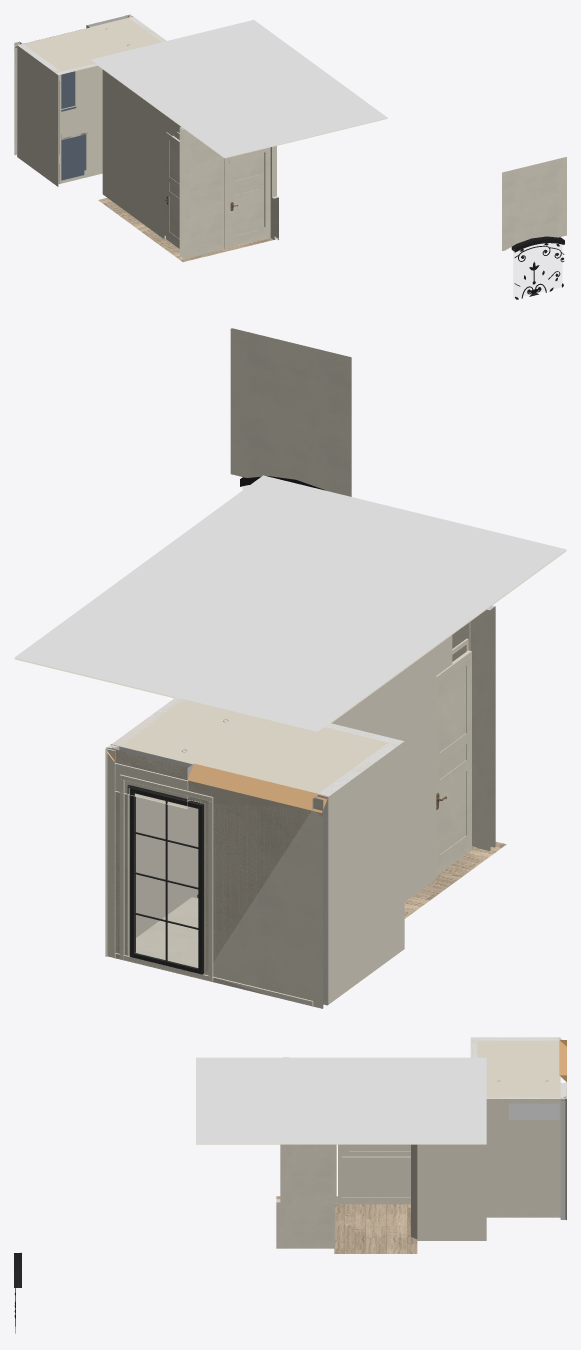
The model's file is laundry-7700b69e0145.glb.
The picture shows the model from 3 angles, top to bottom: view 1: azimuth 30°, elevation 25°; view 2: azimuth 150°, elevation 25°; view 3: azimuth 270°, elevation 25°; orthographic projection. The views are drawn at different scales.
Parts seen in each view (by area): view 1: laundry-look-9d91b47435c6fb33, laundry-look-64efeecf845bccca, laundry-look-eb02897c2e79e2b1, laundry-look-34525a54e63b733b, laundry-4fe5579be934d30a, laundry-9d91b47435c6fb33, laundry-8d8280a2b3ef8b4c, laundry-look-dcc0092055abeaa8, laundry-look-74640f87451038c4, laundry-look-b50904fb6ee0544e, laundry-look-2575515a05775d9e, laundry-3d7dc14daaac73cc (+5 smaller); view 2: laundry-look-9d91b47435c6fb33, laundry-bd62734a7bc60eb7, laundry-look-34525a54e63b733b, laundry-4fe5579be934d30a, laundry-ca9c0b57f88e5741, laundry-9d91b47435c6fb33, laundry-09f90213aa0a4493, laundry-look-64efeecf845bccca, laundry-7f59123d155b94ce, laundry-look-b50904fb6ee0544e, laundry-look-eb02897c2e79e2b1, laundry-9373e00609a5f856 (+6 smaller); view 3: laundry-look-9d91b47435c6fb33, laundry-7f59123d155b94ce, laundry-look-7f59123d155b94ce, laundry-look-746250f96522f643, laundry-9d91b47435c6fb33, laundry-look-2575515a05775d9e, laundry-look-64efeecf845bccca, laundry-6cbc44f63f815149, laundry-9a6873bb27e0e1d8, laundry-look-1a48be0d0ff2f96f.
Boxes of the visible parts, bbox=[...] form: laundry-look-9d91b47435c6fb33: bbox=[91, 20, 387, 158]; laundry-look-64efeecf845bccca: bbox=[102, 69, 177, 238]; laundry-look-eb02897c2e79e2b1: bbox=[179, 127, 270, 258]; laundry-look-34525a54e63b733b: bbox=[502, 157, 566, 250]; laundry-4fe5579be934d30a: bbox=[17, 44, 60, 184]; laundry-9d91b47435c6fb33: bbox=[17, 17, 165, 75]; laundry-8d8280a2b3ef8b4c: bbox=[55, 64, 102, 186]; laundry-look-dcc0092055abeaa8: bbox=[229, 149, 264, 246]; laundry-look-74640f87451038c4: bbox=[513, 243, 562, 298]; laundry-look-b50904fb6ee0544e: bbox=[166, 132, 179, 248]; laundry-look-2575515a05775d9e: bbox=[98, 198, 278, 261]; laundry-3d7dc14daaac73cc: bbox=[61, 134, 86, 180]; laundry-look-9d91b47435c6fb33: bbox=[14, 475, 566, 731]; laundry-bd62734a7bc60eb7: bbox=[106, 747, 322, 1008]; laundry-look-34525a54e63b733b: bbox=[230, 328, 351, 496]; laundry-4fe5579be934d30a: bbox=[317, 743, 398, 1004]; laundry-ca9c0b57f88e5741: bbox=[107, 748, 323, 1008]; laundry-9d91b47435c6fb33: bbox=[111, 698, 403, 794]; laundry-09f90213aa0a4493: bbox=[127, 785, 204, 974]; laundry-look-64efeecf845bccca: bbox=[332, 635, 452, 901]; laundry-7f59123d155b94ce: bbox=[105, 697, 197, 956]; laundry-look-b50904fb6ee0544e: bbox=[436, 650, 471, 875]; laundry-look-eb02897c2e79e2b1: bbox=[452, 605, 495, 850]; laundry-9373e00609a5f856: bbox=[119, 774, 213, 981]; laundry-look-9d91b47435c6fb33: bbox=[196, 1057, 486, 1144]; laundry-7f59123d155b94ce: bbox=[486, 1096, 566, 1219]; laundry-look-7f59123d155b94ce: bbox=[411, 1144, 486, 1240]; laundry-look-746250f96522f643: bbox=[276, 1144, 335, 1246]; laundry-9d91b47435c6fb33: bbox=[470, 1037, 560, 1098]; laundry-look-2575515a05775d9e: bbox=[276, 1196, 417, 1253]; laundry-look-64efeecf845bccca: bbox=[340, 1144, 410, 1203]; laundry-6cbc44f63f815149: bbox=[509, 1083, 566, 1119]; laundry-9a6873bb27e0e1d8: bbox=[560, 1098, 565, 1219]; laundry-look-1a48be0d0ff2f96f: bbox=[341, 1197, 410, 1204].
Size of the model in its own units: 7.03 by 2.95 by 10.33.
Materials: 33 (4 with a texture image).
